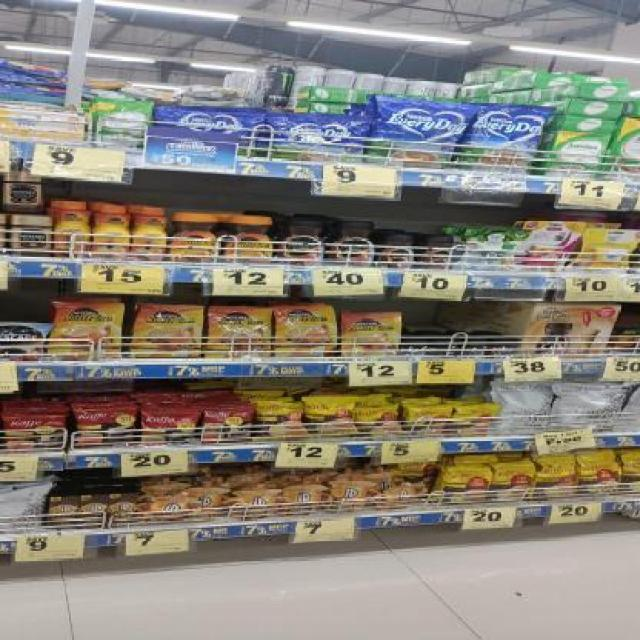Coffee: (52, 304, 120, 358), (136, 304, 200, 358), (209, 305, 267, 357), (276, 307, 334, 358), (342, 313, 399, 356), (171, 212, 219, 263), (224, 215, 272, 265), (330, 221, 374, 268), (279, 218, 323, 265), (54, 200, 90, 257), (94, 204, 130, 260), (1, 322, 48, 361), (136, 205, 167, 261), (4, 171, 42, 214), (9, 216, 48, 257), (381, 234, 414, 268), (420, 235, 452, 268), (433, 342, 459, 355), (494, 343, 520, 356), (404, 342, 428, 356), (463, 342, 487, 354)
